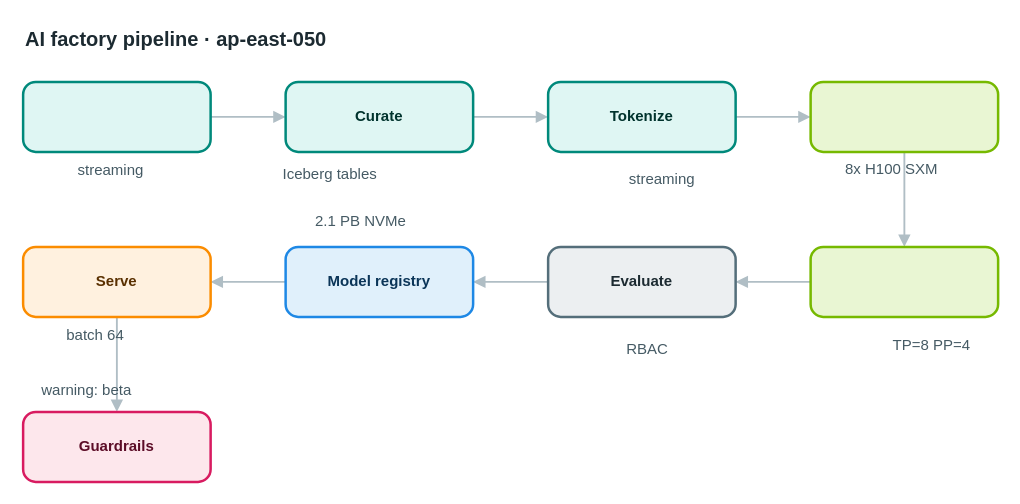
Image size: 1020x504. Some labels were removed from this diagram. Each missing label, with the centre of its shape:
"Fine-tune" goes at [904,281].
"Ingest" goes at [116,116].
"Pretrain" goes at [904,116].
